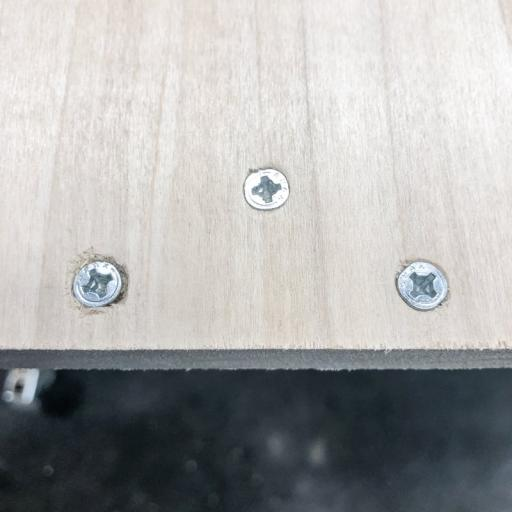Phillips: (71, 255, 126, 311), (395, 258, 449, 311), (244, 164, 290, 212)
